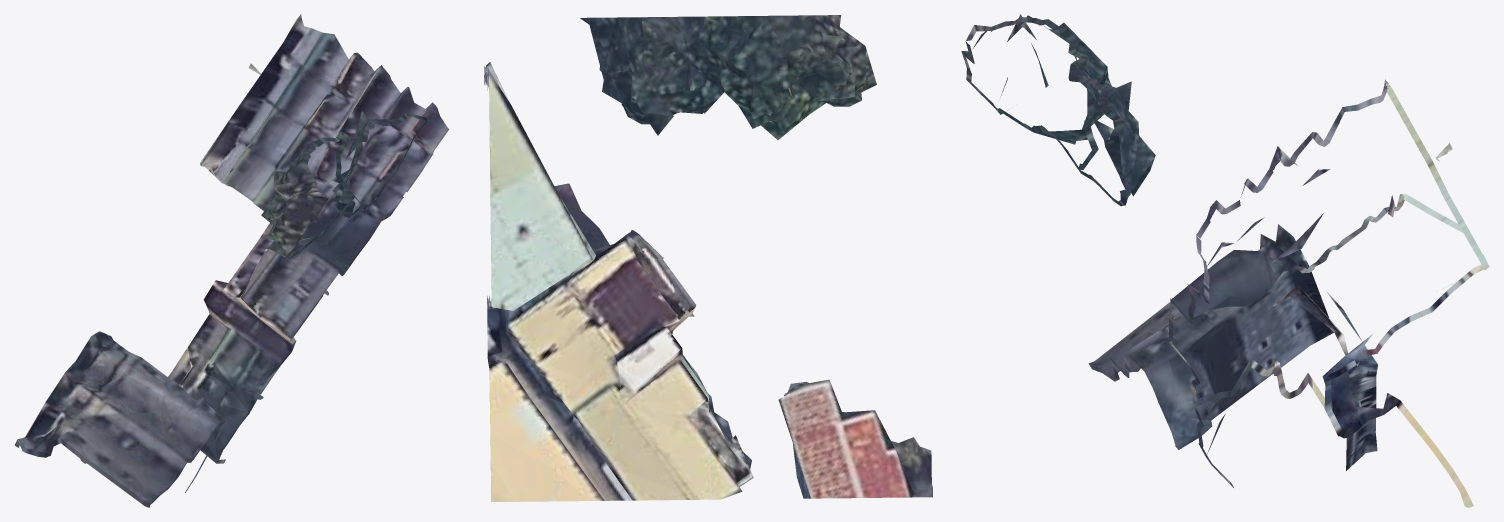
3 views of the same model, side by side, from view 1: azimuth 30°, elevation 25°; view 2: azimuth 150°, elevation 25°; view 3: azimuth 270°, elevation 25° (orthographic). The views are drawn at different scales.
Size of the model in its own units: 43.84 by 38.3 by 36.81.
1 material, 1 textured.
